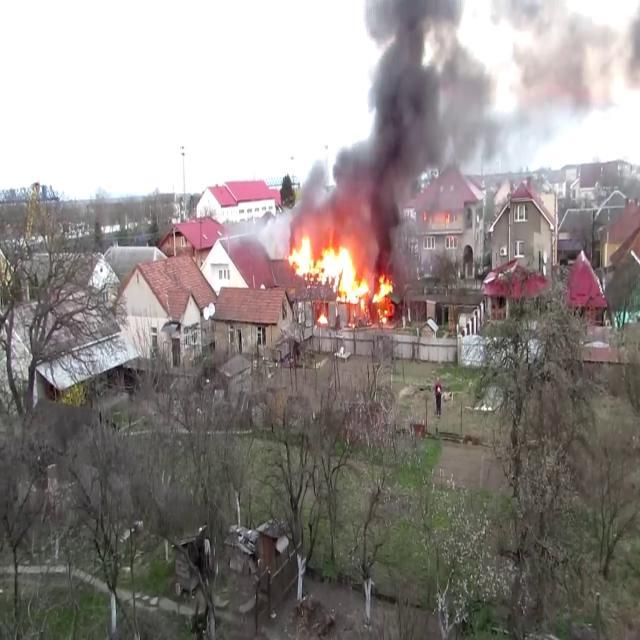Fire: (286, 224, 394, 309)
Smoke: (307, 1, 484, 239), (506, 0, 640, 181)
